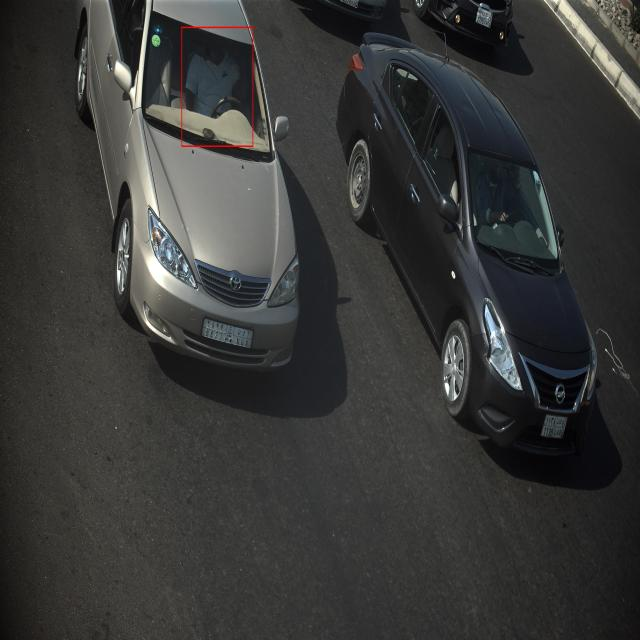windshield: (141, 4, 277, 167), (464, 147, 563, 279)
